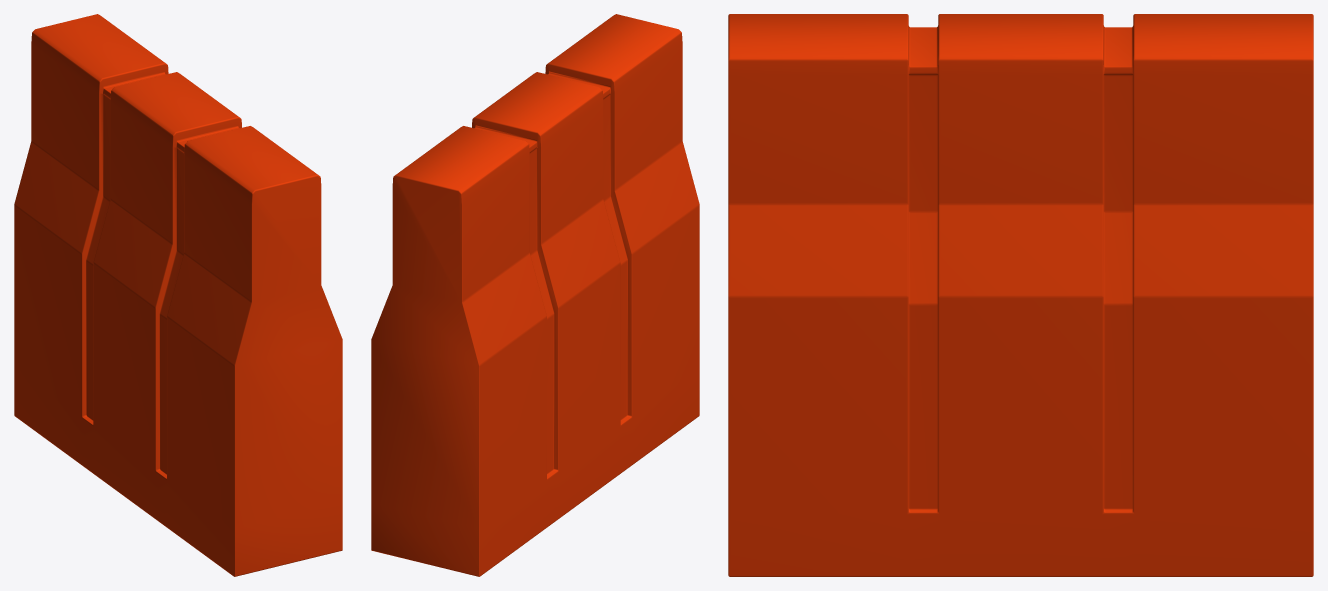
File: barier.fbx
3 views of the same model, side by side, from view 1: azimuth 30°, elevation 25°; view 2: azimuth 150°, elevation 25°; view 3: azimuth 270°, elevation 25° (orthographic). The views are drawn at different scales.
Parts seen in each view (by area): view 1: Cube.057; view 2: Cube.057; view 3: Cube.057.
Part boxes in pixels (box(x1,y1,x2,y2)): Cube.057: box(14, 14, 342, 576); Cube.057: box(371, 14, 699, 576); Cube.057: box(728, 14, 1313, 576).
Size of the model in its own units: 21.55 by 72.64 by 76.04.
